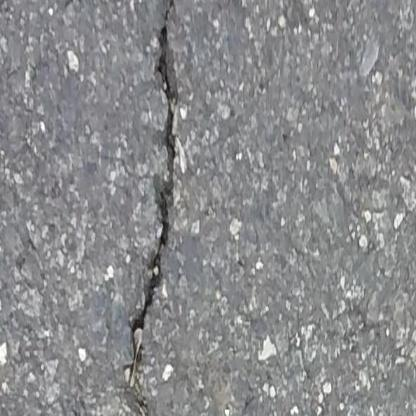Cracks: (120, 0, 205, 416)
